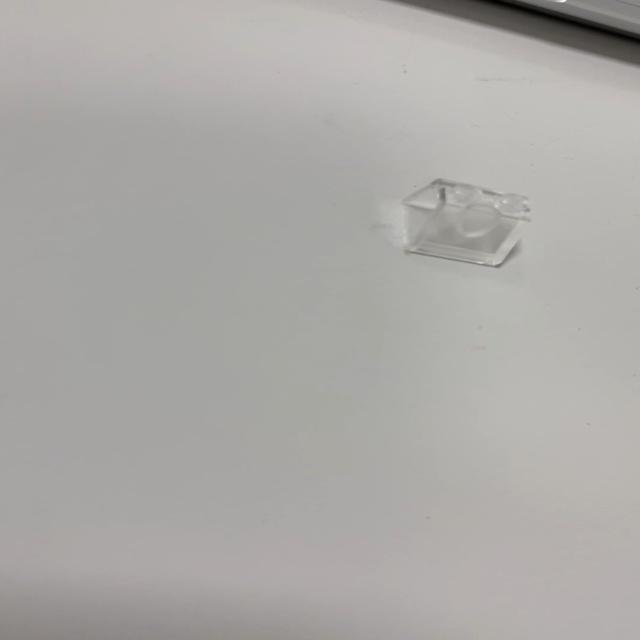P2x2x1: (400, 177, 534, 267)
